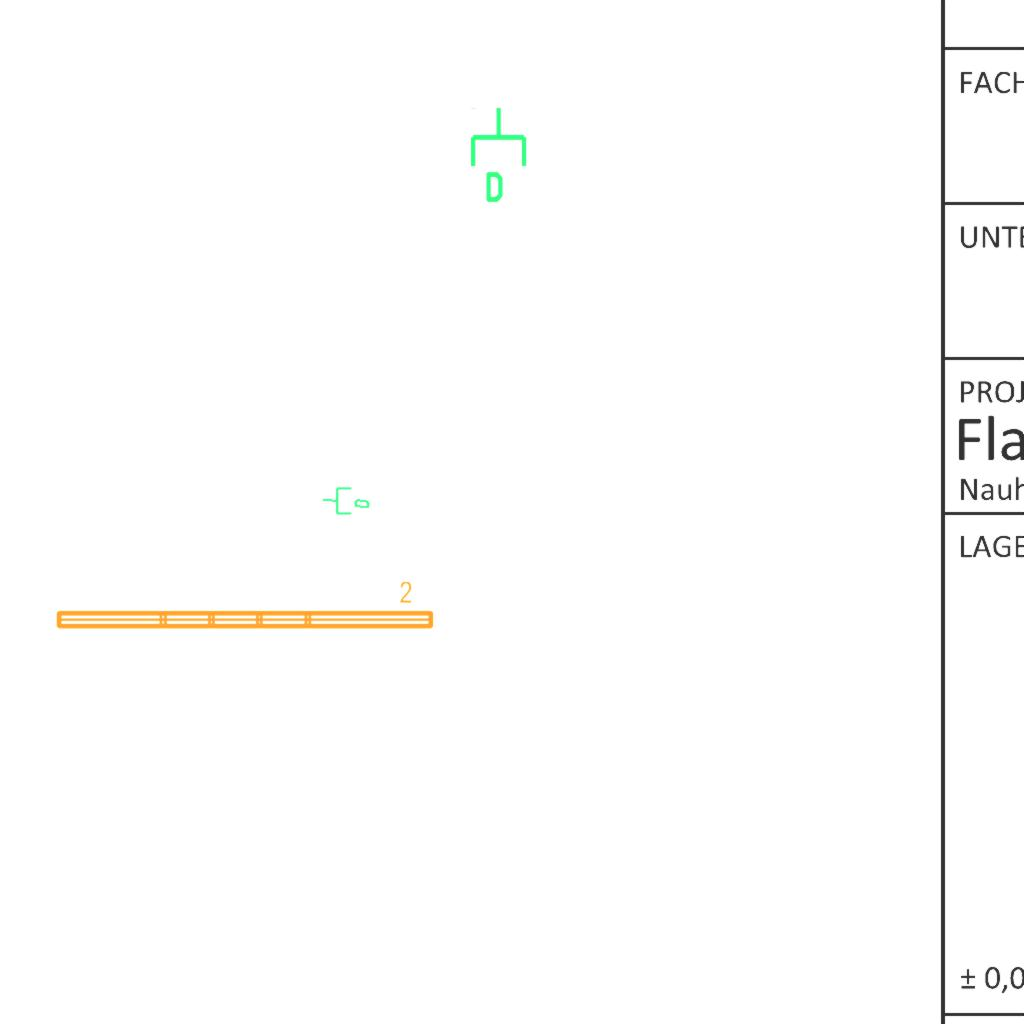Ambulanz_Pendelleuchte_LED: (51, 579, 438, 635)
Datenanschluss_einfach: (466, 105, 535, 205), (320, 482, 372, 518)
